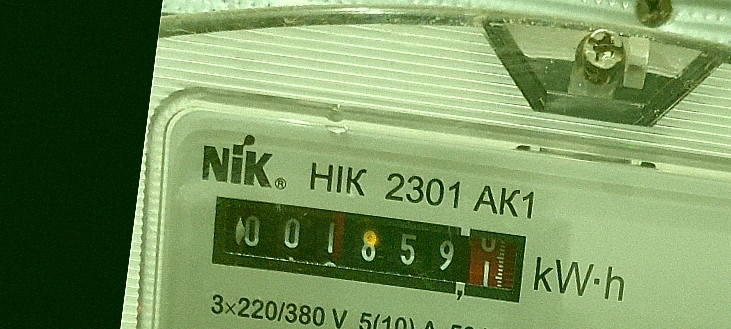0: (240, 211, 263, 249), (279, 214, 303, 249)
1: (323, 218, 338, 255), (477, 256, 493, 288)
5: (395, 229, 420, 266)
8: (357, 226, 381, 263)
9: (433, 235, 457, 272)
screen: (195, 181, 539, 313)
